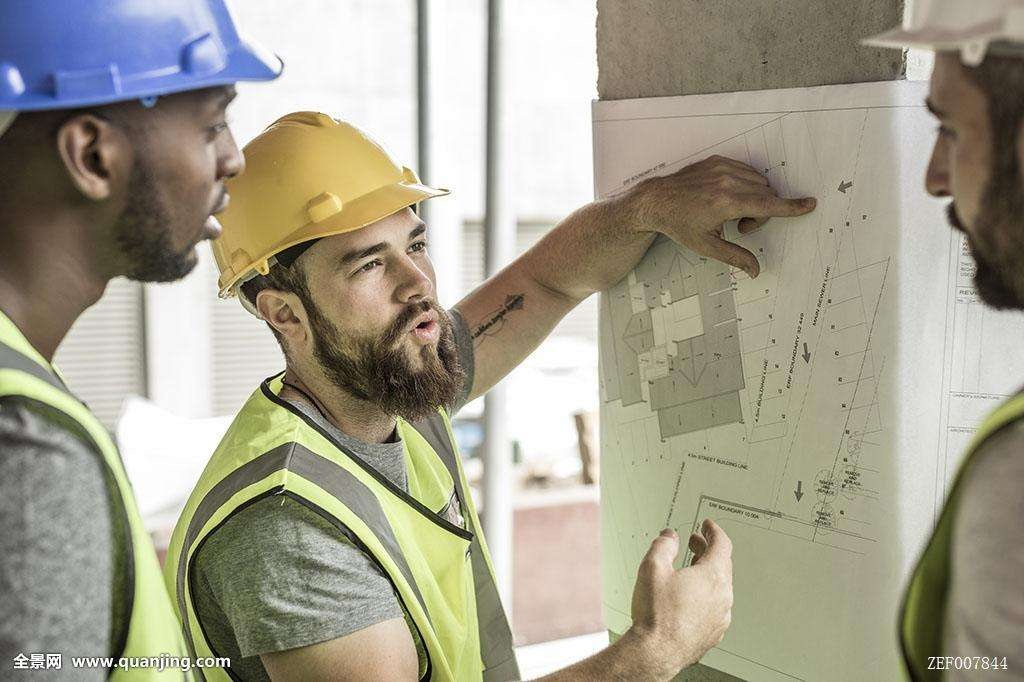blue: (4, 2, 265, 284)
yellow: (204, 110, 465, 420)
